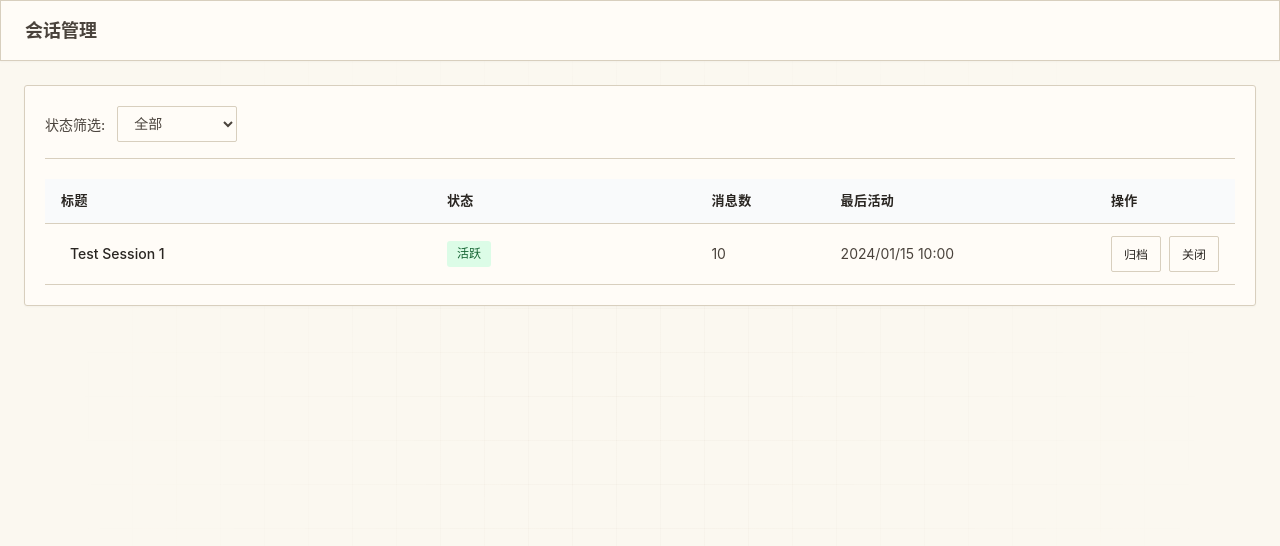
Test: SessionsTab › updates row state after archive action
The width and height of the screenshot is (1280, 546).
Expected: the row with test id "session-row-session-1" is shown, [45,223,1235,284]
Expected: the row with test id "session-row-session-1" shows "活跃", [457,246,481,260]
Click the button with test id "session-archive-button-session-1" at (1136, 254), box [1111,236,1161,272]
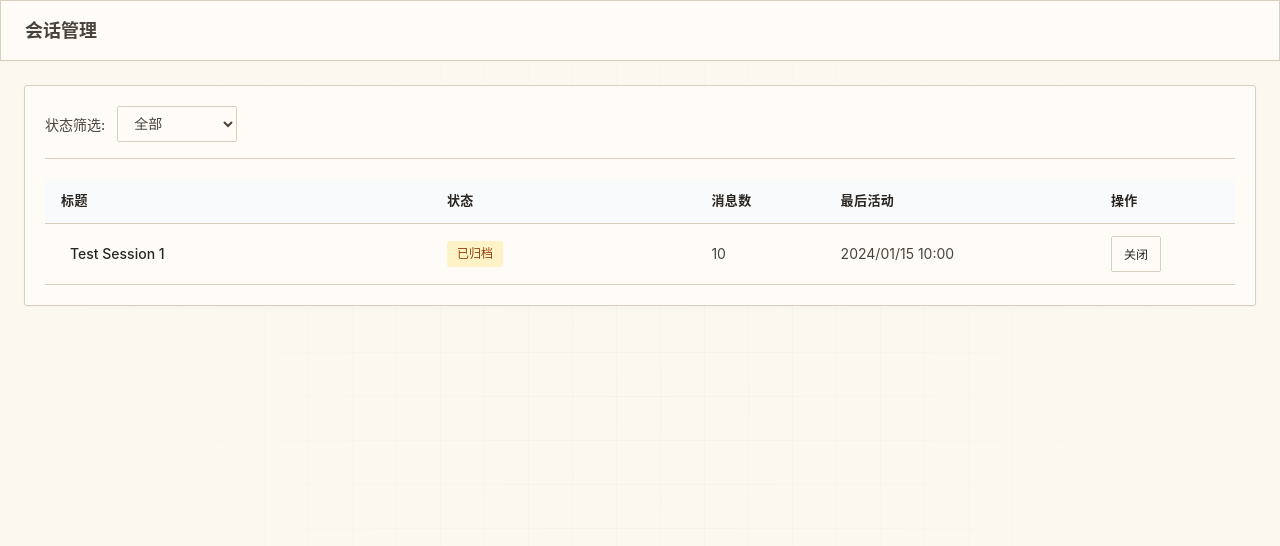
Expected: the row with test id "session-row-session-1" shows "已归档", [457,246,493,260]
